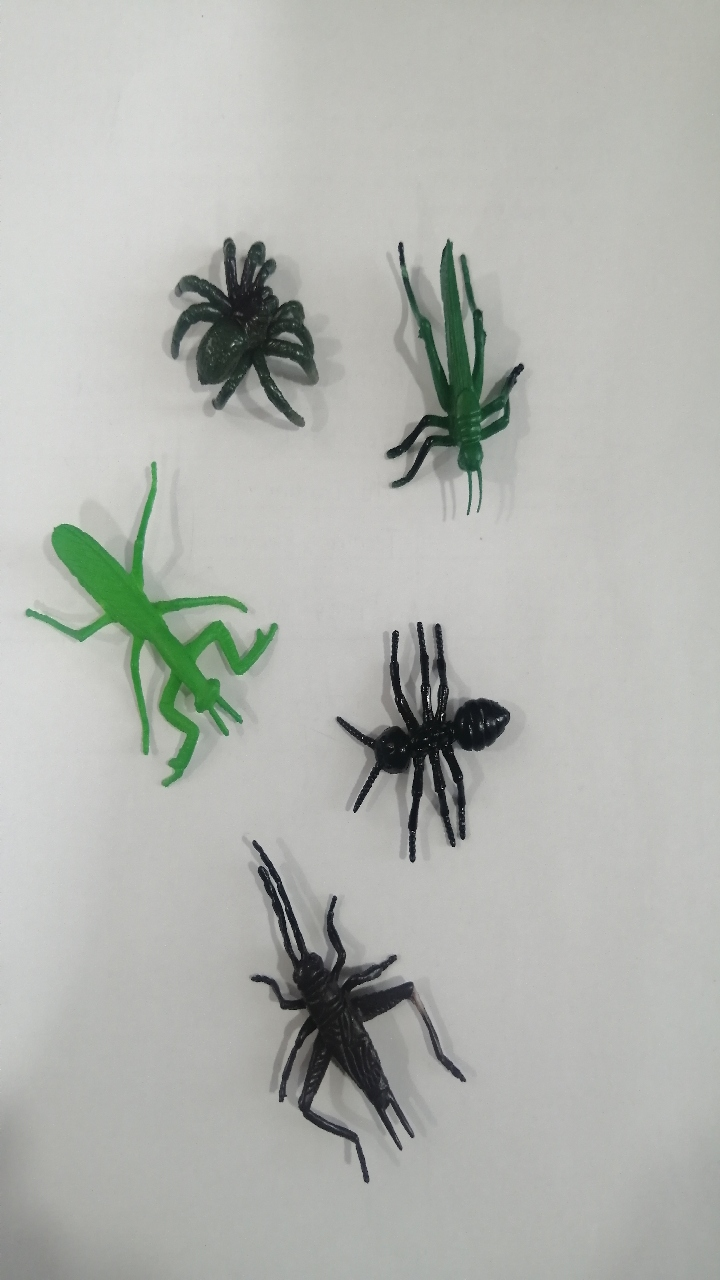intruso: (197, 819, 509, 1211), (1, 452, 308, 822), (304, 599, 560, 880), (360, 206, 552, 529), (131, 197, 346, 449)
